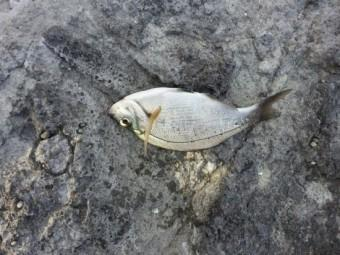fish: (109, 88, 294, 153)
